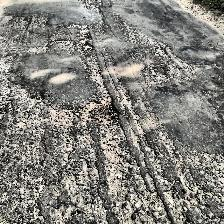pothole: (80, 89, 120, 127)
